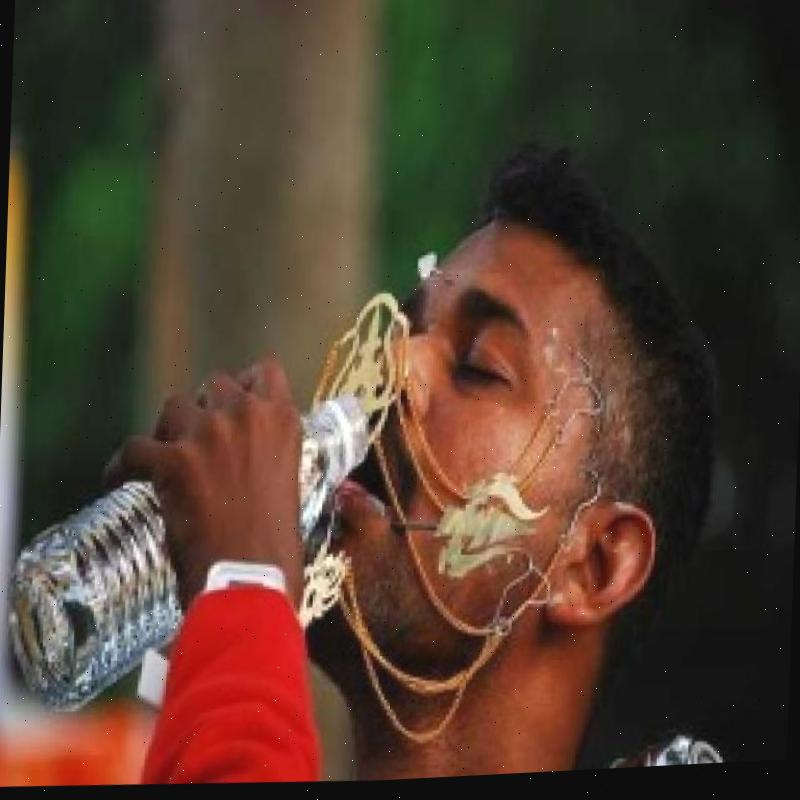botella: (10, 389, 376, 726)
